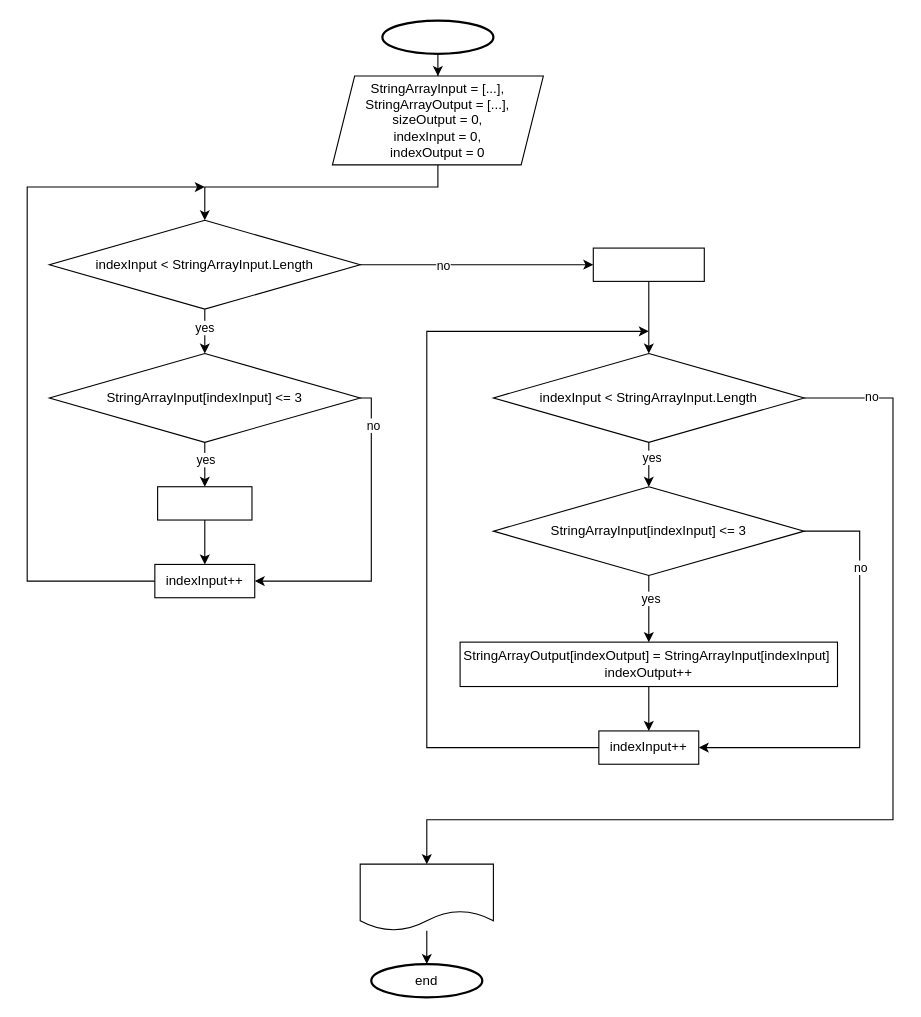
This 921x1017 diagram has some shape labels left out. Here are the shapes that lost their labels. From the top down, the box of each, then its label:
(381, 19, 494, 54): Start
(592, 247, 704, 281): indexInput = 0
(157, 486, 252, 520): sizeOutput++
(359, 863, 493, 931): StringArrayOutput
